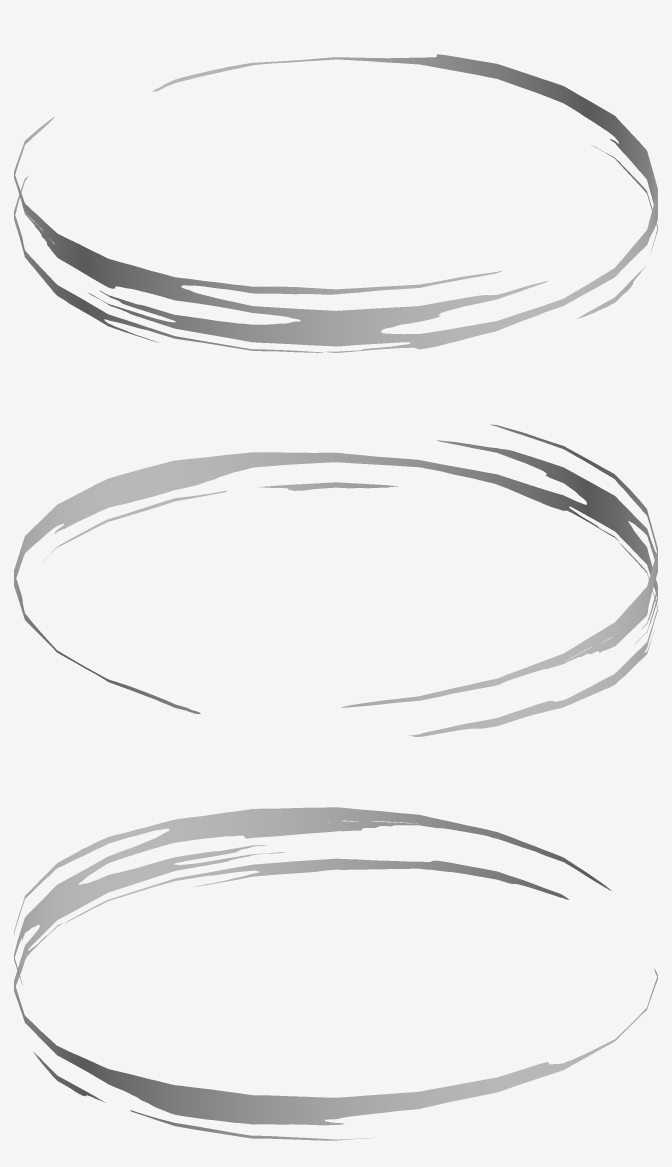
Rendered from eff_cylinder_s_12.FBX.
3 renders of one model, top to bottom at view 1: azimuth 30°, elevation 25°; view 2: azimuth 150°, elevation 25°; view 3: azimuth 270°, elevation 25°, orthographic.
Parts seen in each view (by area): view 1: eff_cylinder_s_12; view 2: eff_cylinder_s_12; view 3: eff_cylinder_s_12.
Boxes of the visible parts, bbox=[...] form: eff_cylinder_s_12: bbox=[14, 54, 657, 352]; eff_cylinder_s_12: bbox=[14, 424, 657, 736]; eff_cylinder_s_12: bbox=[14, 807, 657, 1140].
Size of the model in its own units: 200 by 30.35 by 200.
1 material, 1 textured.
